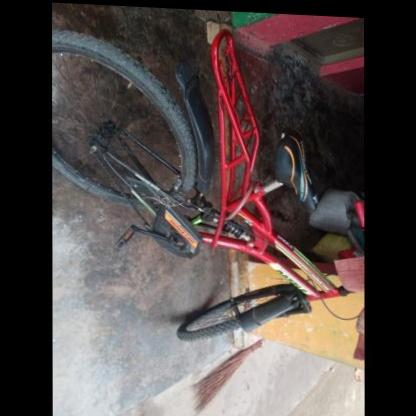Bicycle: (48, 18, 364, 352)
